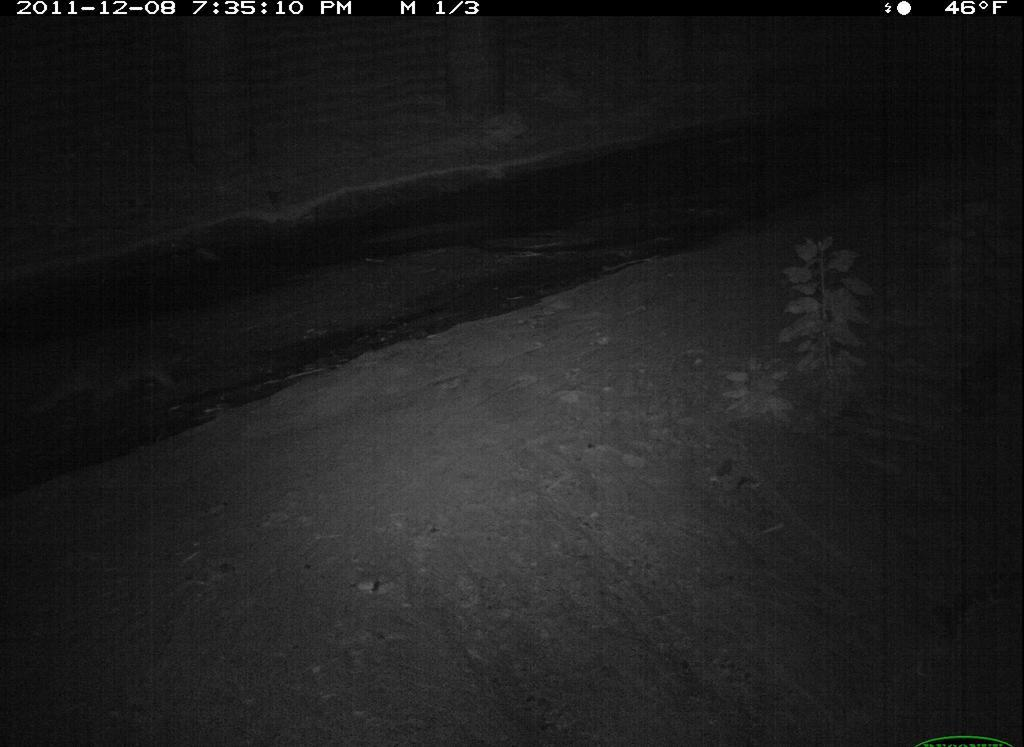raccoon: (17, 319, 200, 422)
